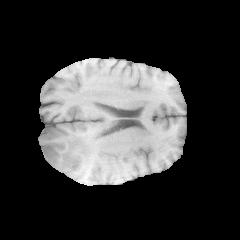glioma: (43, 122, 113, 177)
